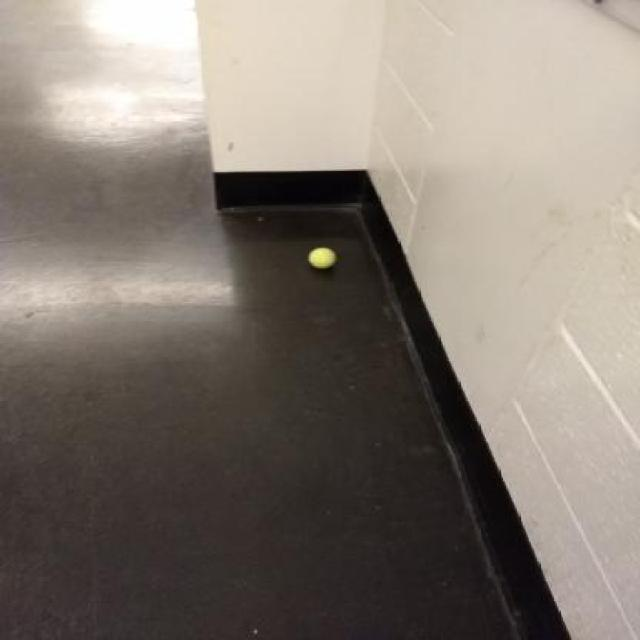Tennis_Ball: (312, 248, 340, 268)
